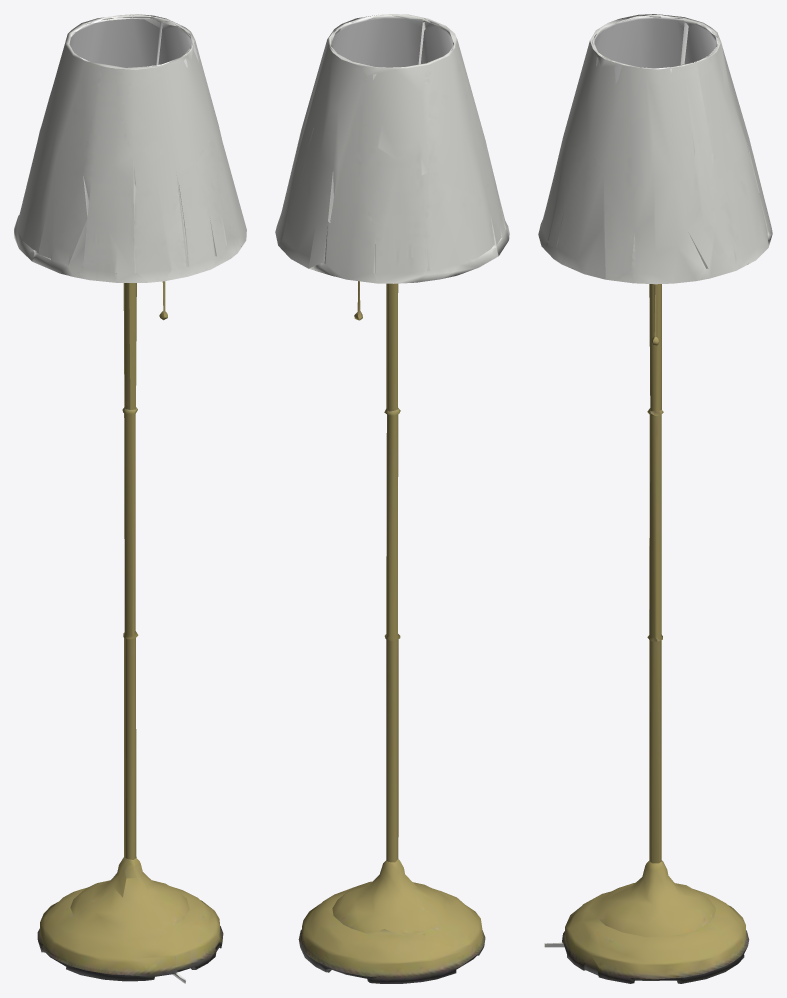
3 views of the same model, side by side, from view 1: azimuth 30°, elevation 25°; view 2: azimuth 150°, elevation 25°; view 3: azimuth 270°, elevation 25° (orthographic).
Parts seen in each view (by area): view 1: ProcessedMeshNode; view 2: ProcessedMeshNode; view 3: ProcessedMeshNode.
Boxes of the visible parts, bbox=[...] form: ProcessedMeshNode: bbox=[14, 14, 246, 983]; ProcessedMeshNode: bbox=[275, 14, 509, 983]; ProcessedMeshNode: bbox=[538, 14, 772, 983].
Bounding box in the file's own units: 0.3647 × 1.55 × 0.3627.
2 materials, 2 textured.
